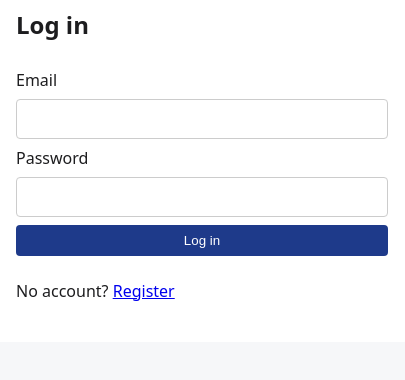
Test case: shows generic error on bad credentials
The width and height of the screenshot is (405, 380).
Type "a@b.com" into the field labelled "Email".
click(202, 119); type("a@b.com")  # box [16,99,388,139]
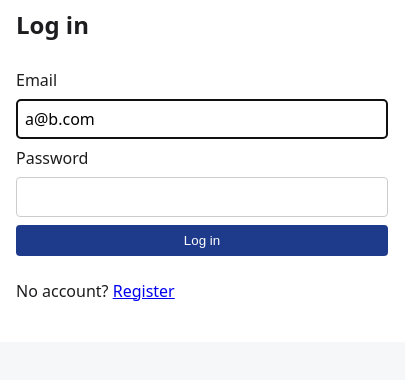
Type "wrongpass" into the password field labelled "Password".
click(202, 197); type("wrongpass")  # box [16,177,388,217]
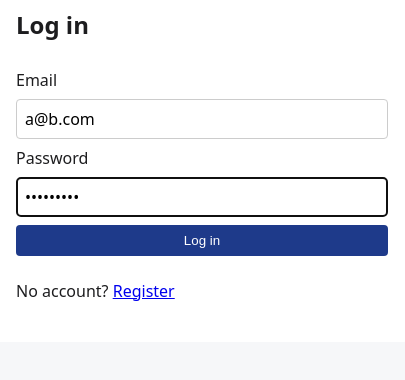
Click the button "Log in".
click(202, 240)  # box [16,225,388,256]
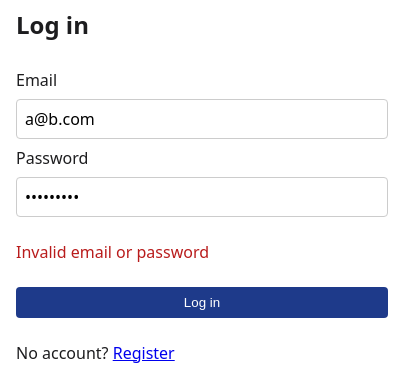
Result: the message reads "Invalid email or password" at [16,241,209,263]
